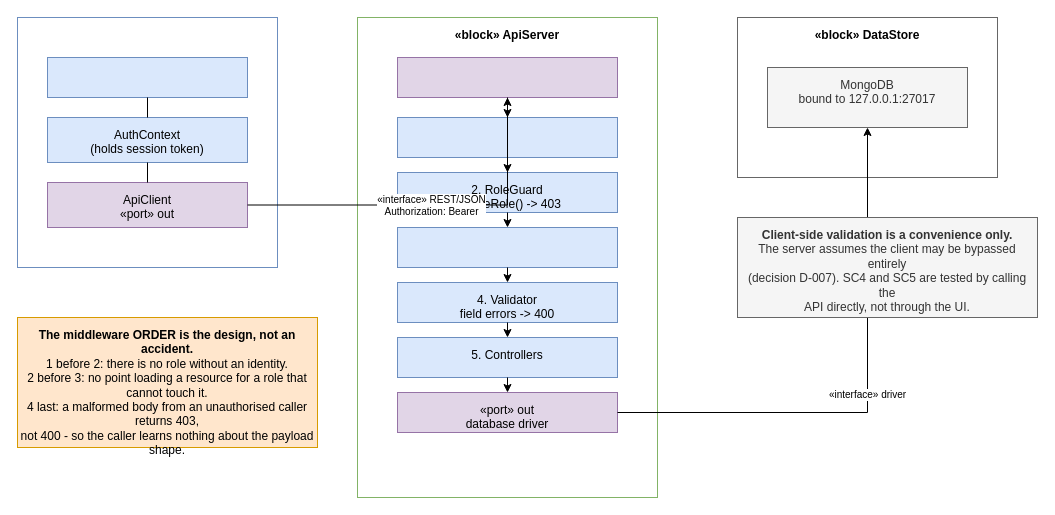
This 1055x515 diagram has some shape labels left out. Each missing label, with the box of its shape:
1. AuthMiddleware verify token -> 401: (396, 116, 618, 158)
3. OwnershipGuard owner == session user -> 403: (396, 226, 618, 268)
UI Components: (46, 56, 248, 98)
«block» WebClient: (16, 16, 278, 268)
«port» in HTTP :5000: (396, 56, 618, 98)
